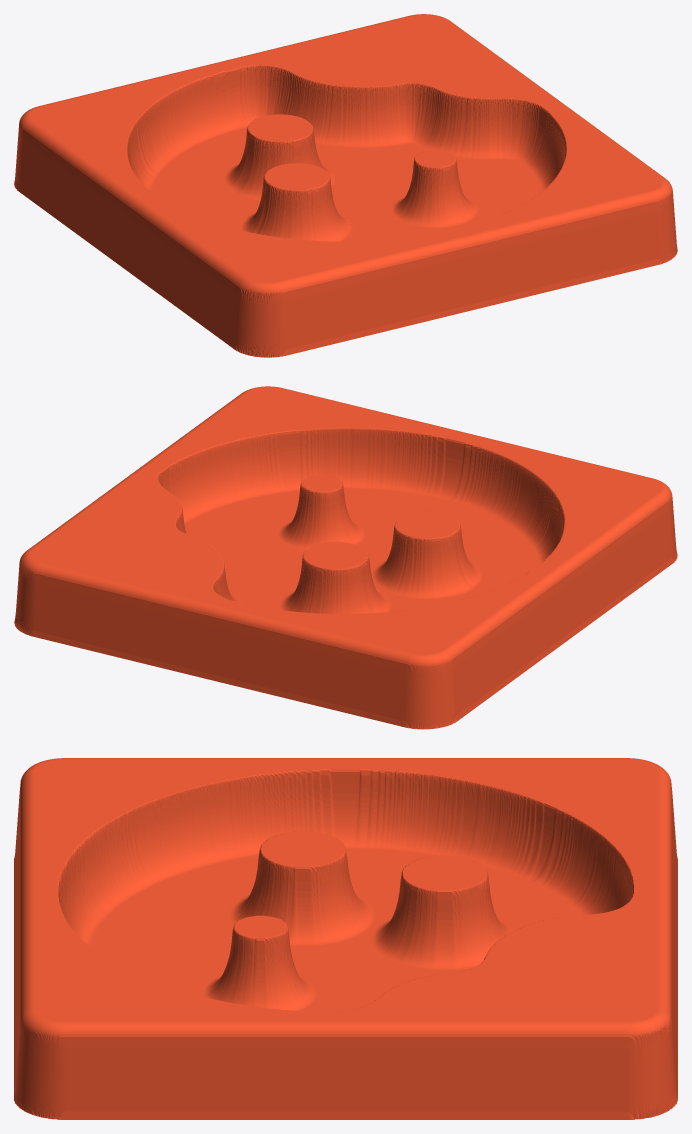
Rendered from mold.glb.
3 renders of one model, top to bottom at view 1: azimuth 30°, elevation 25°; view 2: azimuth 150°, elevation 25°; view 3: azimuth 270°, elevation 25°, orthographic. The views are drawn at different scales.
Visible parts, largest first — view 1: geometry_0; view 2: geometry_0; view 3: geometry_0.
Part boxes in pixels (x1,y1,x2,y2): geometry_0: (14,14,677,357); geometry_0: (14,386,677,729); geometry_0: (14,758,677,1119).
Bounding box in the file's own units: 0.1174 × 0.0175 × 0.1178.
